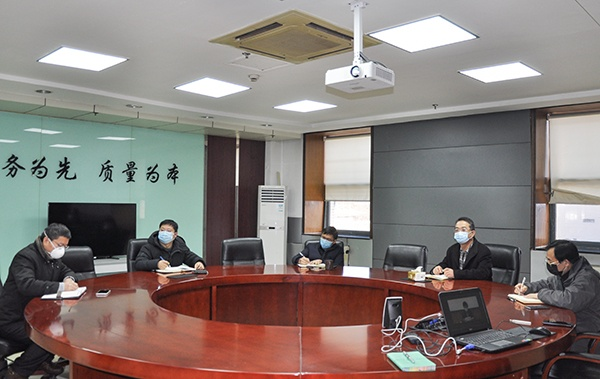correctlyWear: (544, 249, 572, 276), (39, 236, 71, 259), (157, 223, 177, 243), (454, 222, 474, 242), (318, 233, 337, 248)
